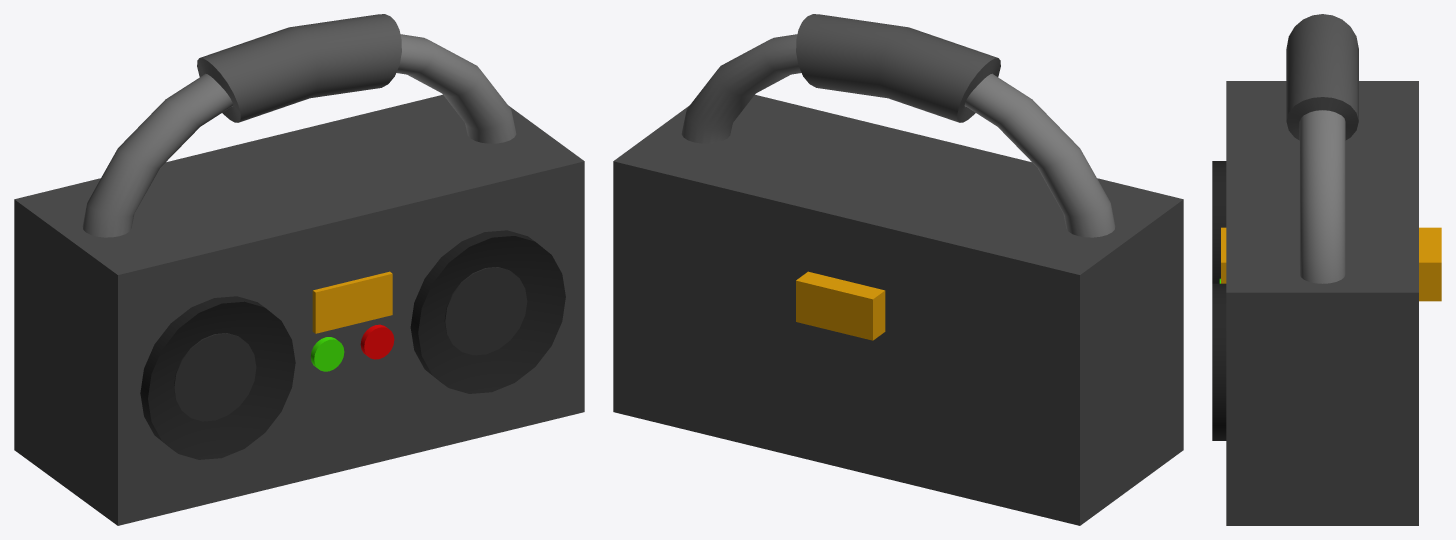
File: boombox.fbx
3 renders of one model, left to right at view 1: azimuth 30°, elevation 25°; view 2: azimuth 150°, elevation 25°; view 3: azimuth 270°, elevation 25°, orthographic. The views are drawn at different scales.
Parts seen in each view (by area): view 1: pasted__pCylinder3; view 2: pasted__pCylinder3; view 3: pasted__pCylinder3.
Part boxes in pixels (box(x1,y1,x2,y2)): pasted__pCylinder3: box(14, 14, 584, 525); pasted__pCylinder3: box(613, 14, 1183, 525); pasted__pCylinder3: box(1212, 14, 1441, 525).
Bounding box in the file's own units: 2.6 × 2.14 × 1.19.
